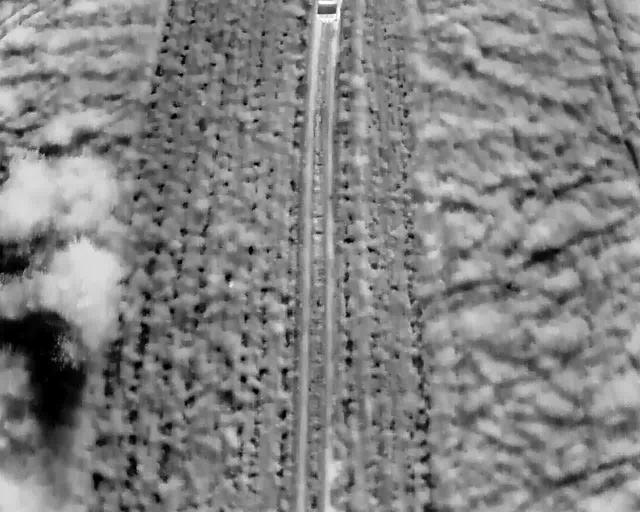car: (315, 0, 339, 21)
